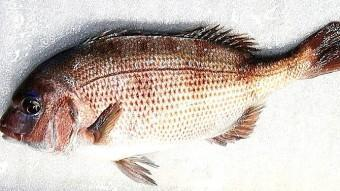fish: (0, 22, 339, 185)
